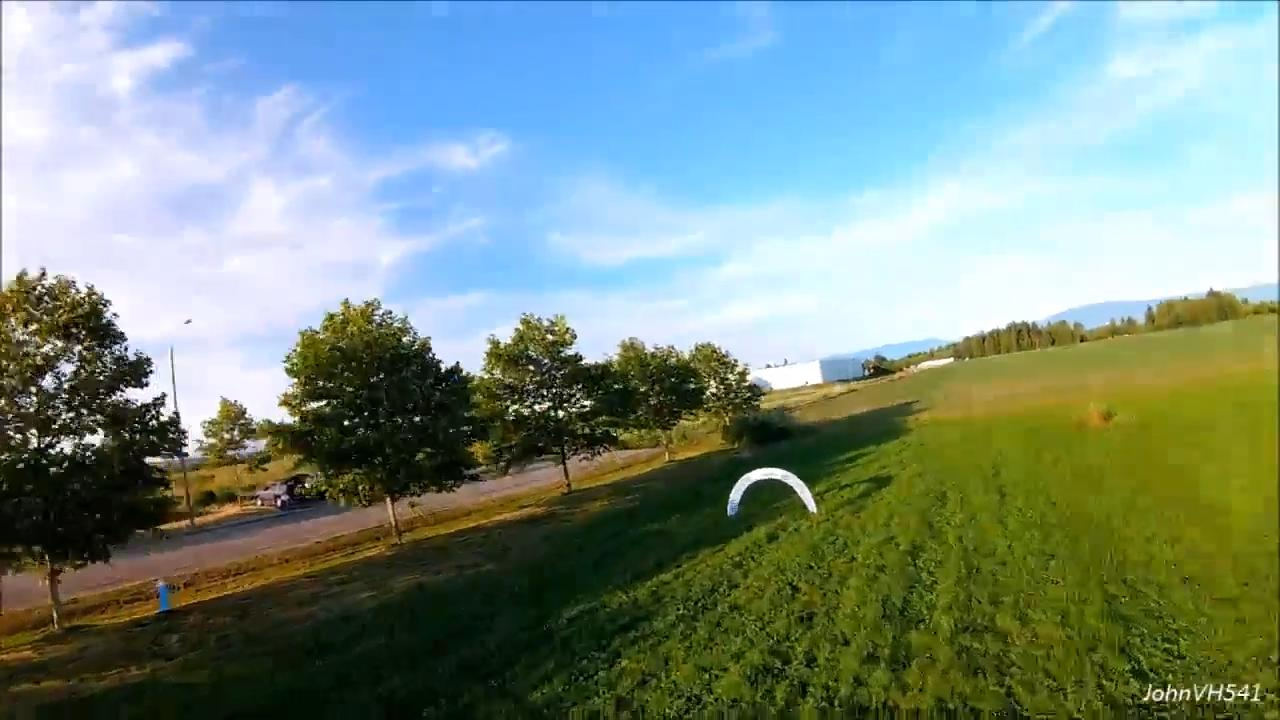gate: (725, 467, 819, 516)
